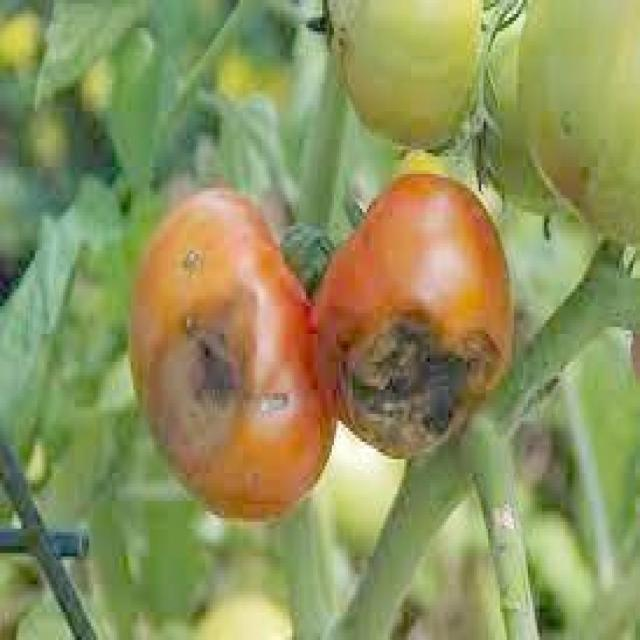Blossom End Rot Fruit: (106, 107, 277, 252)
